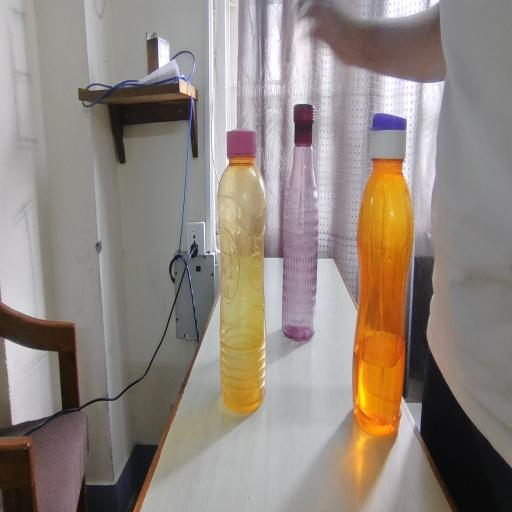Bottle: (206, 111, 276, 421), (369, 90, 417, 456), (288, 103, 324, 363)
